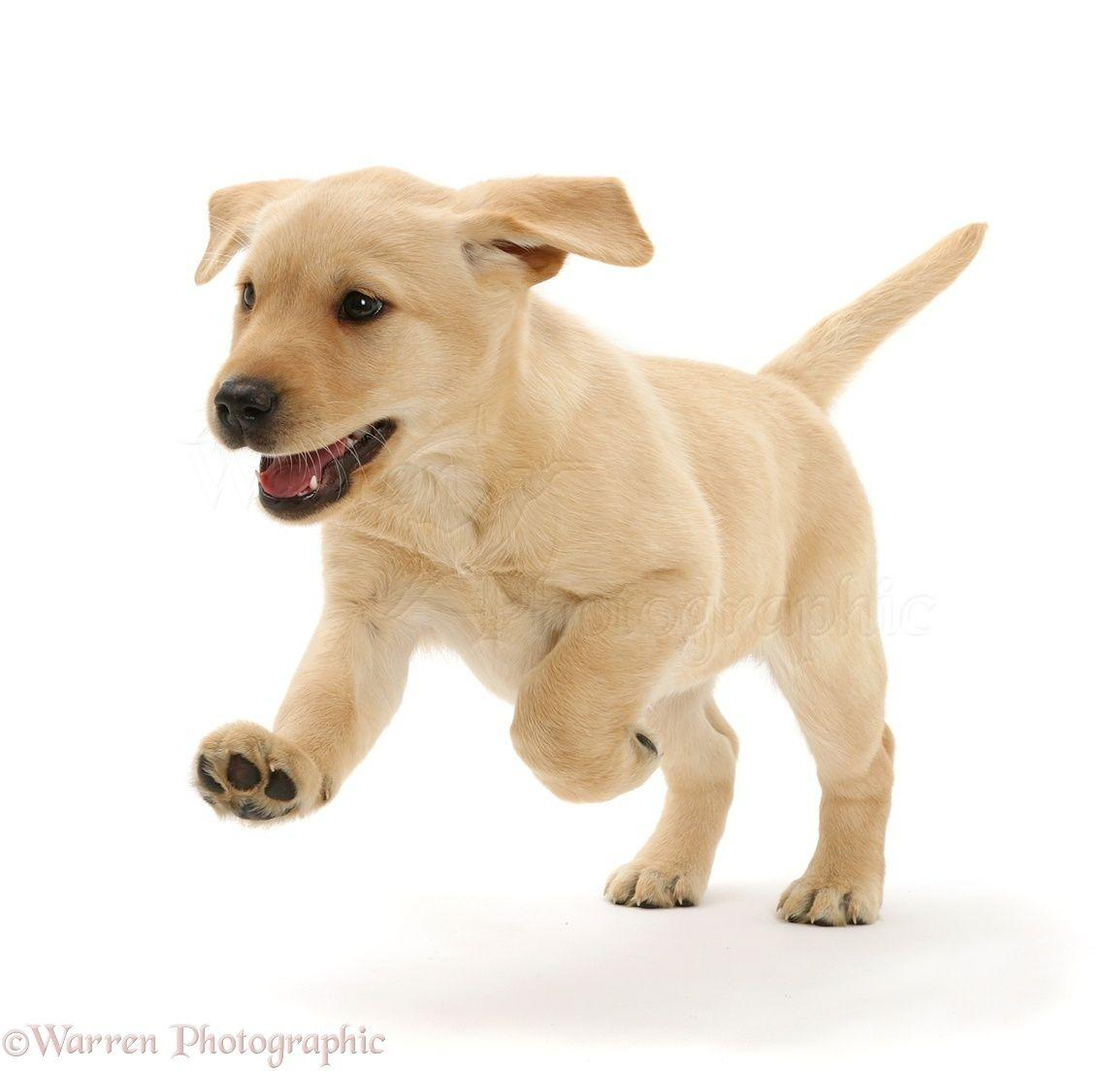puppy-dog: (181, 158, 994, 929)
